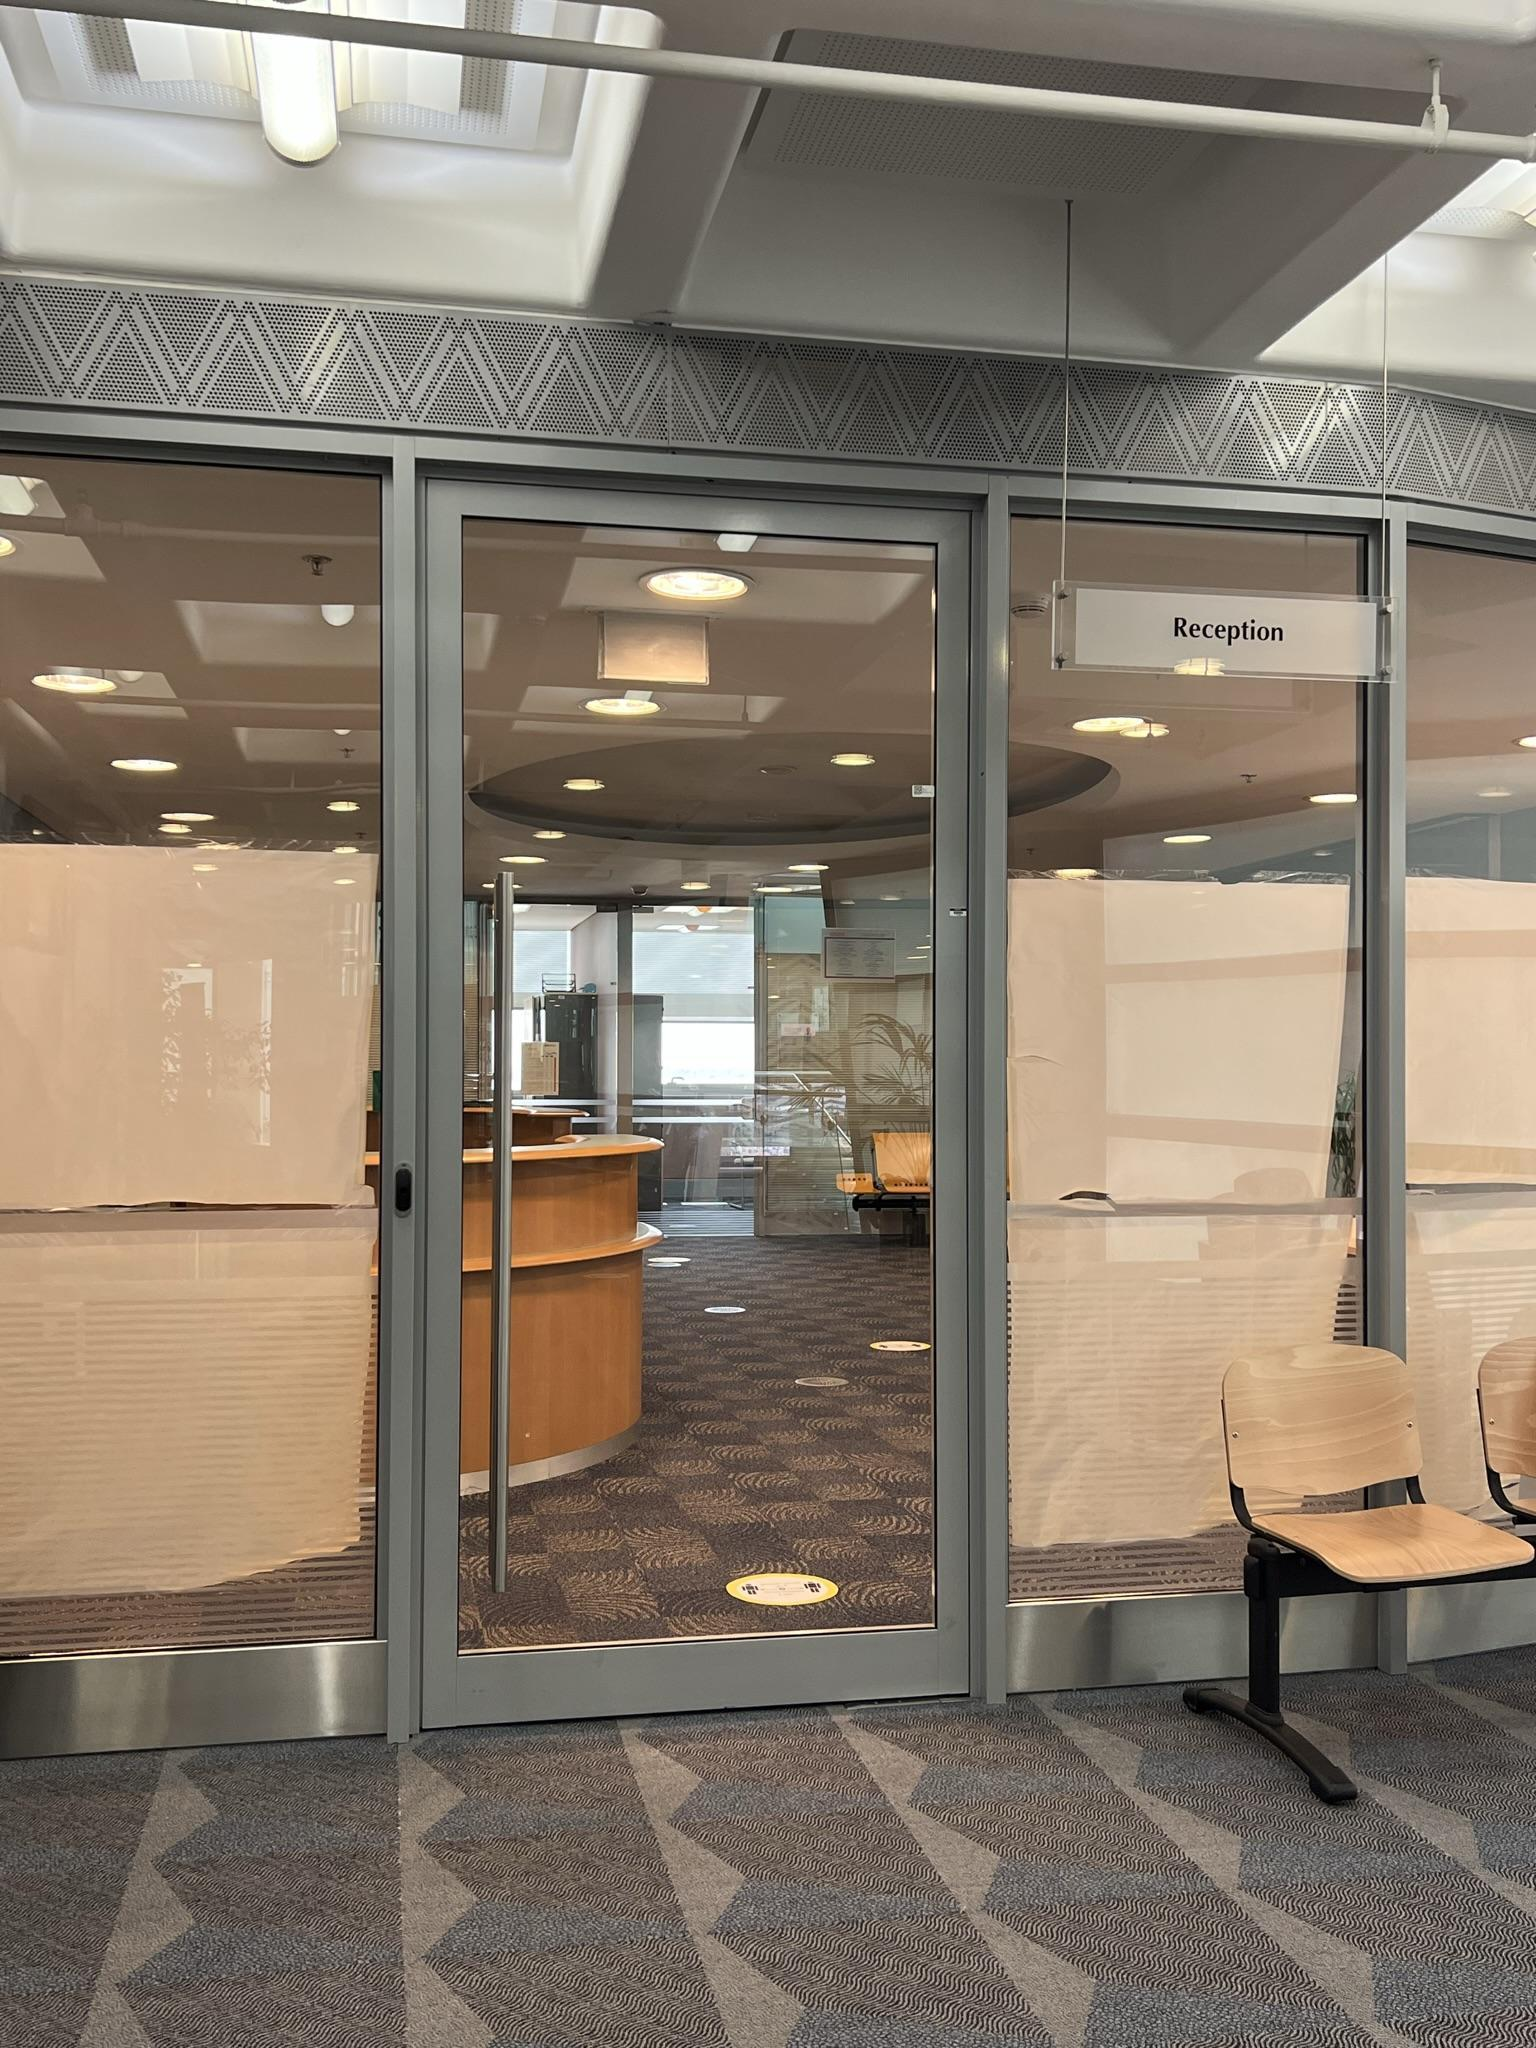door: (442, 461, 989, 1722)
handle: (487, 861, 521, 1538)
